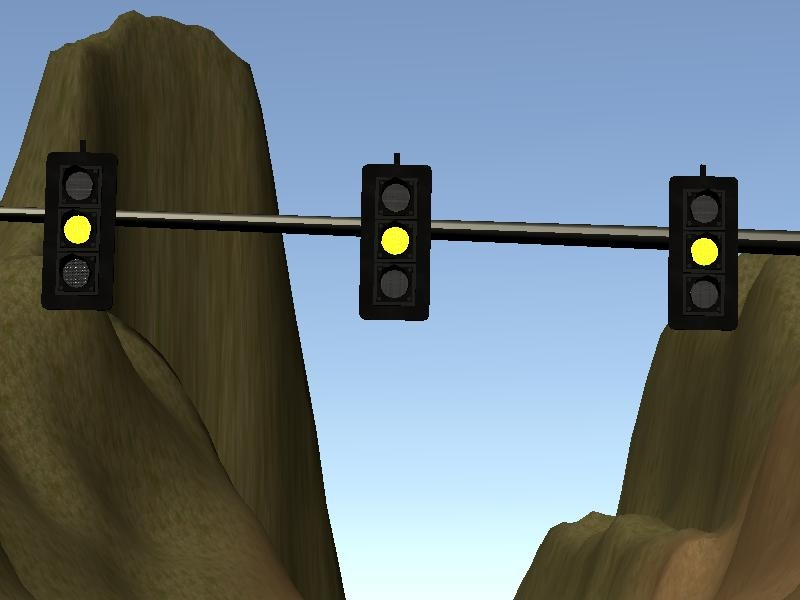yellow: (357, 162, 434, 326), (665, 173, 739, 334), (42, 150, 115, 308)
